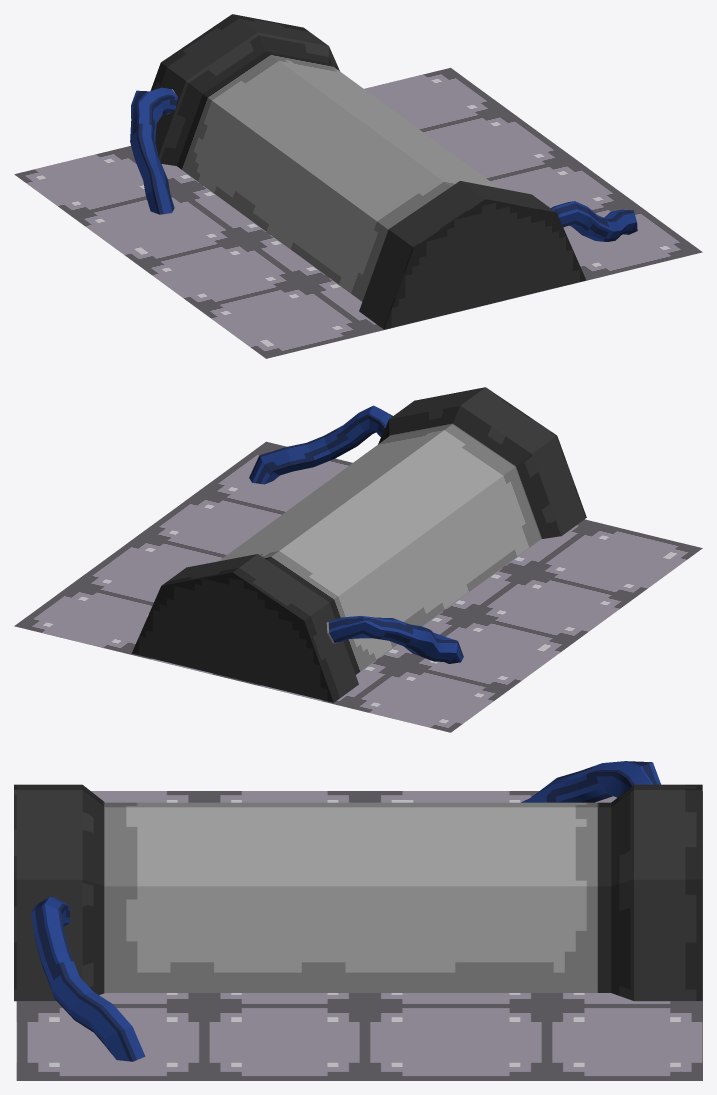
File: buis recht.FBX
The picture shows the model from 3 angles, top to bottom: view 1: azimuth 30°, elevation 25°; view 2: azimuth 150°, elevation 25°; view 3: azimuth 270°, elevation 25°; orthographic projection. The views are drawn at different scales.
Parts seen in each view (by area): view 1: Cylinder001; view 2: Cylinder001; view 3: Cylinder001.
Part boxes in pixels (<box>): Cylinder001: <box>14,14,702,358</box>; Cylinder001: <box>14,387,702,732</box>; Cylinder001: <box>14,761,702,1080</box>.
Size of the model in its own units: 1 by 0.2343 by 1.
2 materials, 2 textured.
